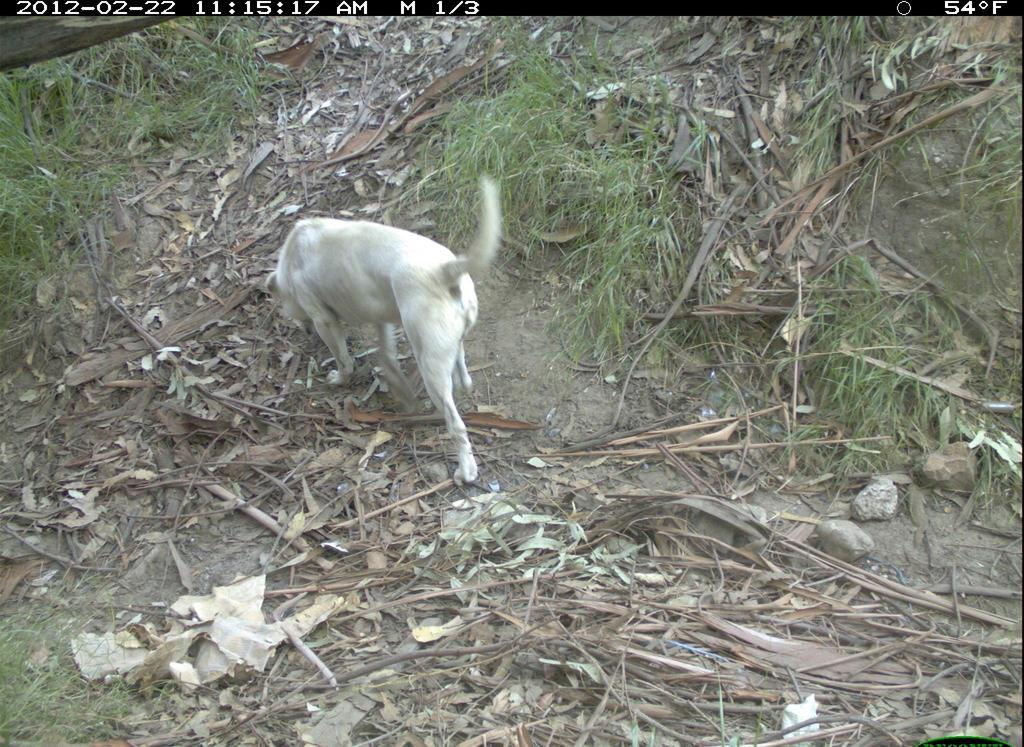dog: (254, 161, 534, 488)
